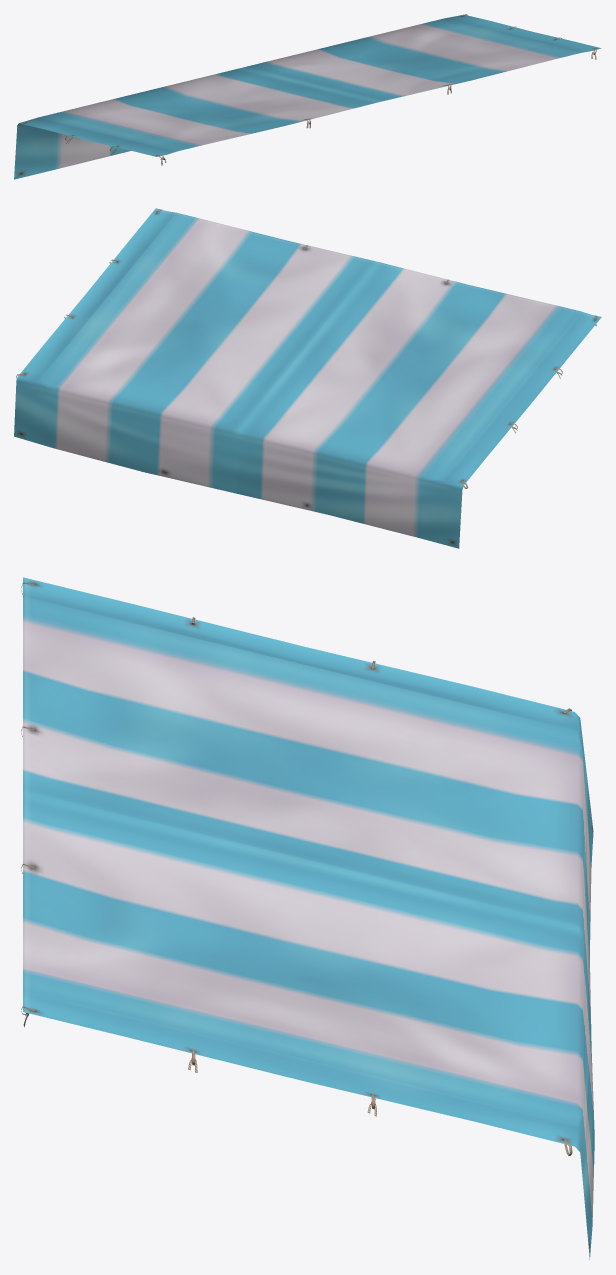
File: jsf_Ceiling_s04_c02_t01.fbx
The picture shows the model from 3 angles, top to bottom: view 1: azimuth 30°, elevation 25°; view 2: azimuth 150°, elevation 25°; view 3: azimuth 270°, elevation 25°; orthographic projection. The views are drawn at different scales.
Parts seen in each view (by area): view 1: jsf_Ceiling_s04_c02_t01; view 2: jsf_Ceiling_s04_c02_t01; view 3: jsf_Ceiling_s04_c02_t01.
Part boxes in pixels (left/top/right/bottom): jsf_Ceiling_s04_c02_t01: left=14, top=14, right=601, bottom=179; jsf_Ceiling_s04_c02_t01: left=14, top=208, right=601, bottom=548; jsf_Ceiling_s04_c02_t01: left=21, top=577, right=594, bottom=1259.
Size of the model in its own units: 394 by 106 by 216.
